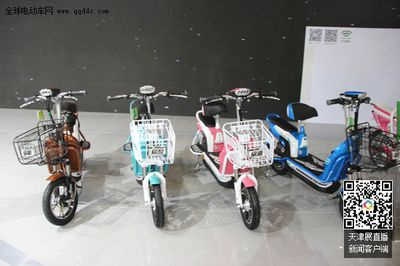non-vehicle: (193, 85, 289, 231), (267, 93, 373, 221), (107, 84, 188, 233), (16, 85, 98, 225)
